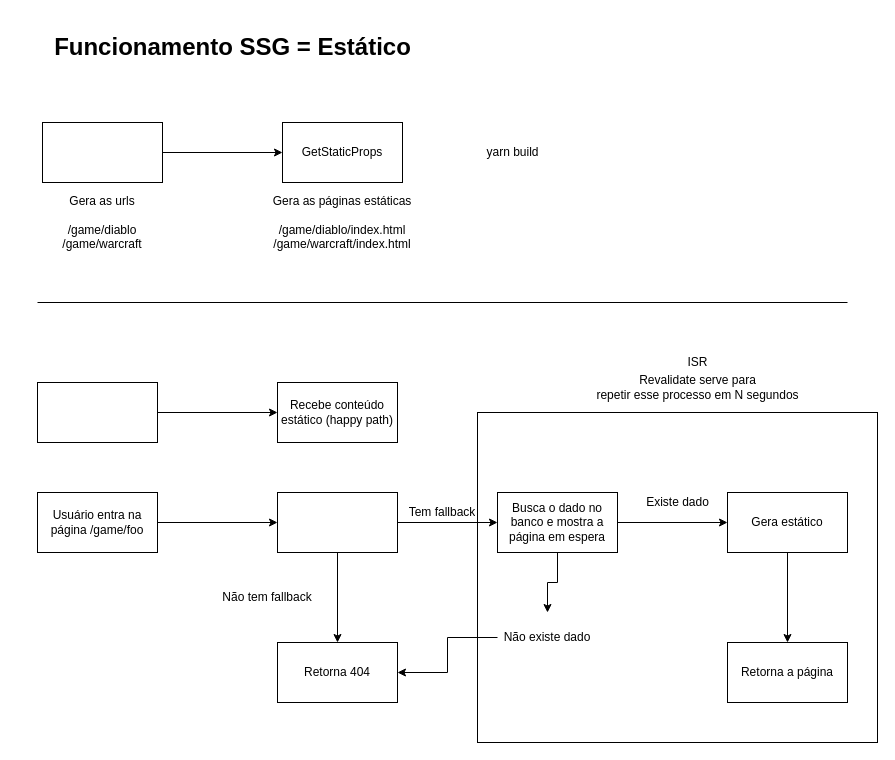
Some shapes in this 895 by 760 pixel diagram are drawn without their labels. The shapes that lost their labels are listed below. From the top down, each one's box as (x1, y1, x2, y2) in pixels, then its label:
(42, 122, 162, 182): GetStaticPaths
(36, 382, 158, 442): Usuário entra na página /game/diablo
(276, 492, 398, 552): Estático não existe
